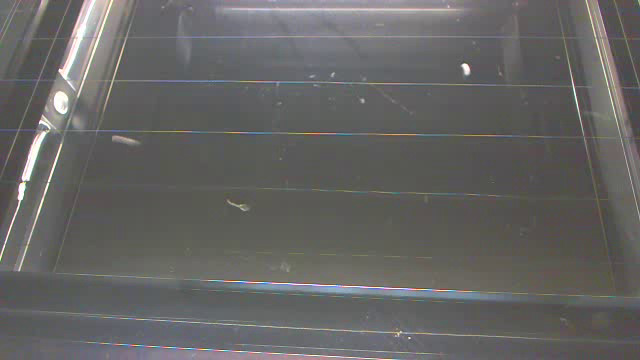Alfa: (107, 127, 145, 150), (459, 60, 472, 79)
